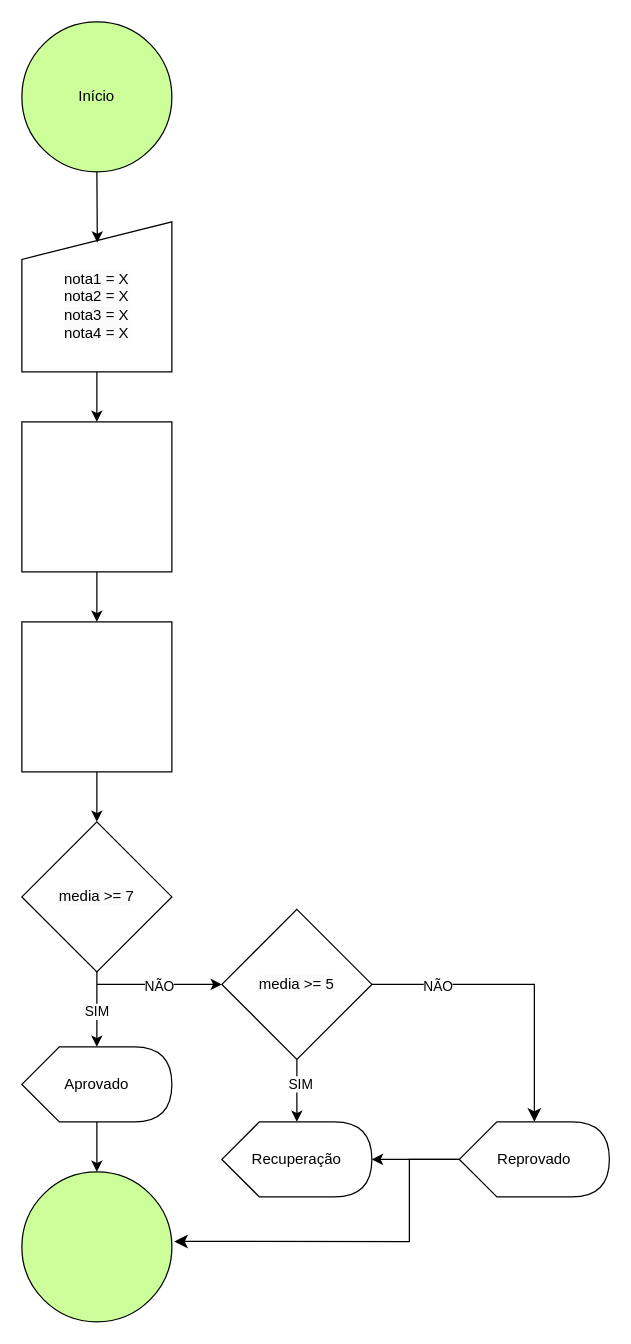
This 631x1344 diagram has some shape labels left out. The shapes that lost their labels are listed below. From the top down, each one's centre as x and y in pixels, then its label:
At pixel 96 496: "soma = nota1 + nota2 + nota3 + nota4".
At pixel 96 696: "media = soma / 4".
At pixel 96 1246: "Fim".
